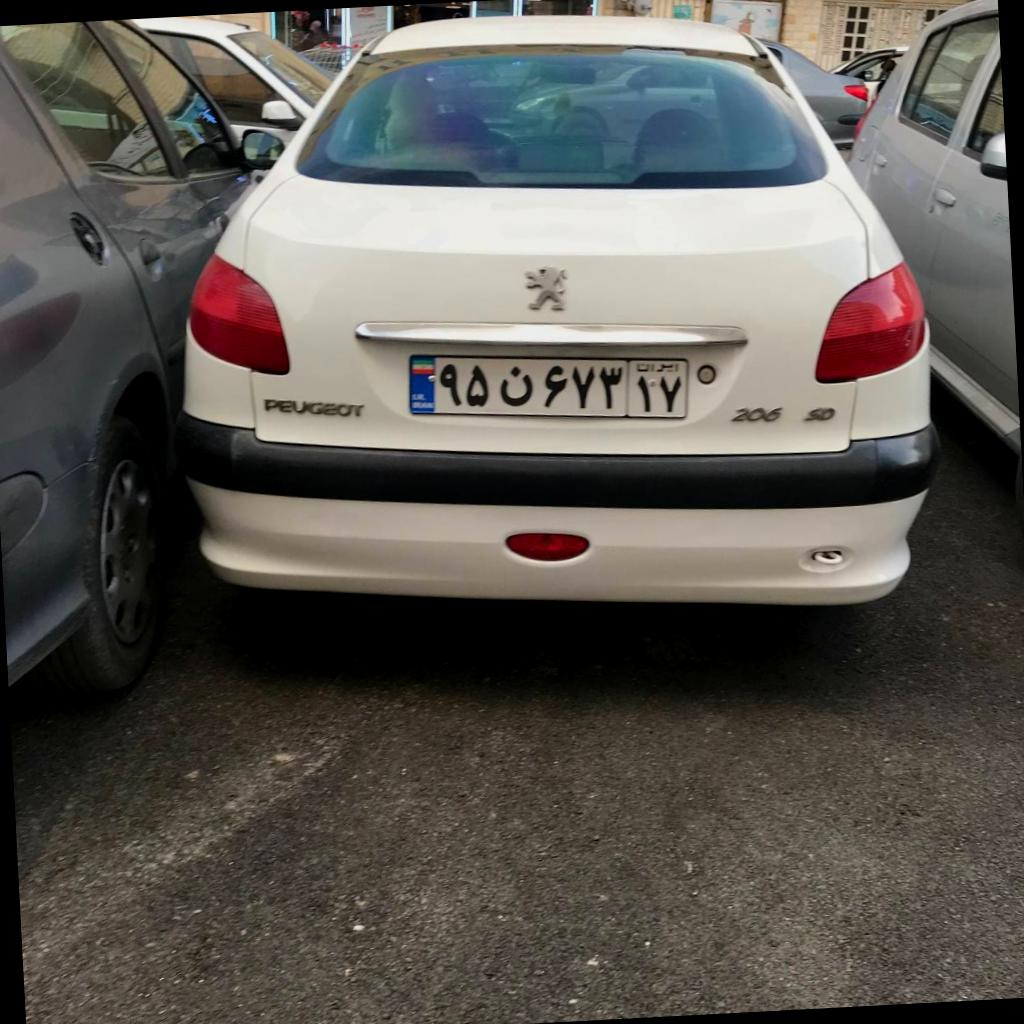Plates: (408, 355, 688, 417)
